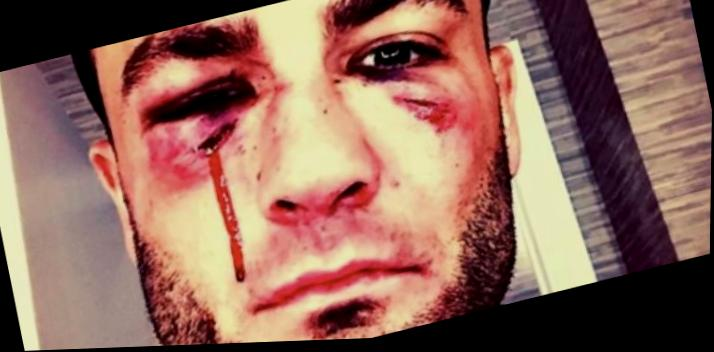Fire: (345, 69, 475, 150), (196, 122, 246, 284)
